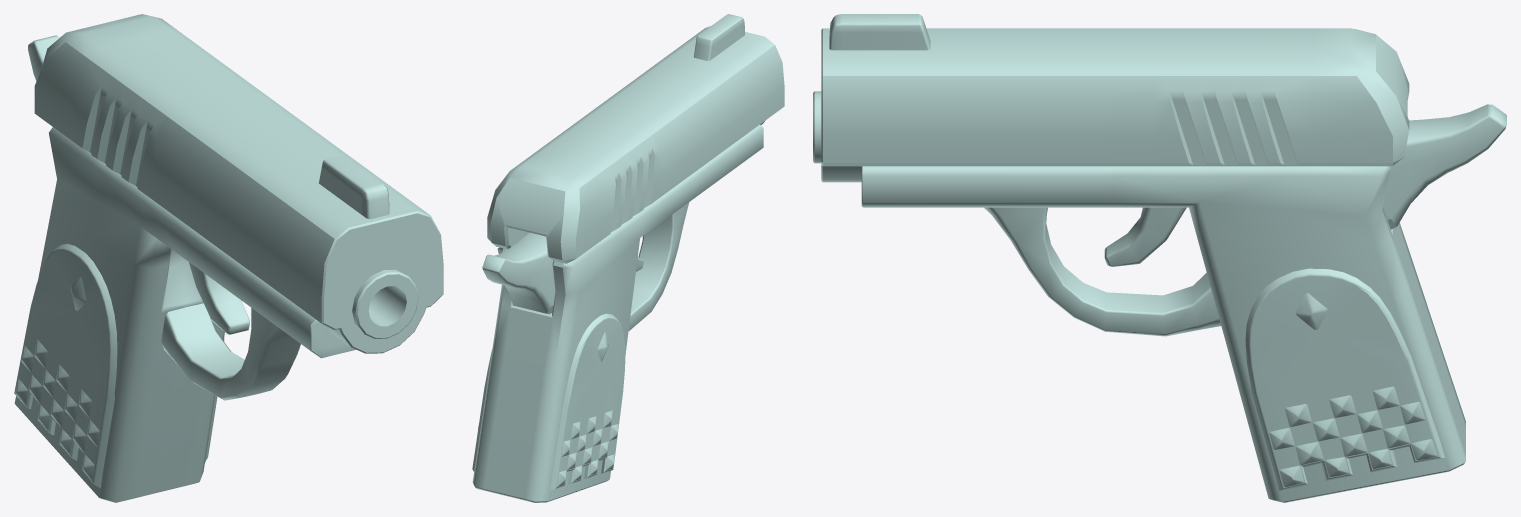
File: gun.fbx
3 renders of one model, left to right at view 1: azimuth 30°, elevation 25°; view 2: azimuth 150°, elevation 25°; view 3: azimuth 270°, elevation 25°, orthographic. The views are drawn at different scales.
Visible parts, largest first — view 1: gun; view 2: gun; view 3: gun.
Boxes of the visible parts, x1=… form: gun: x1=14, y1=14, x2=443, y2=502; gun: x1=472, y1=14, x2=784, y2=502; gun: x1=813, y1=14, x2=1506, y2=502.
Bounding box in the file's own units: 1.07 × 3.77 × 5.12.
